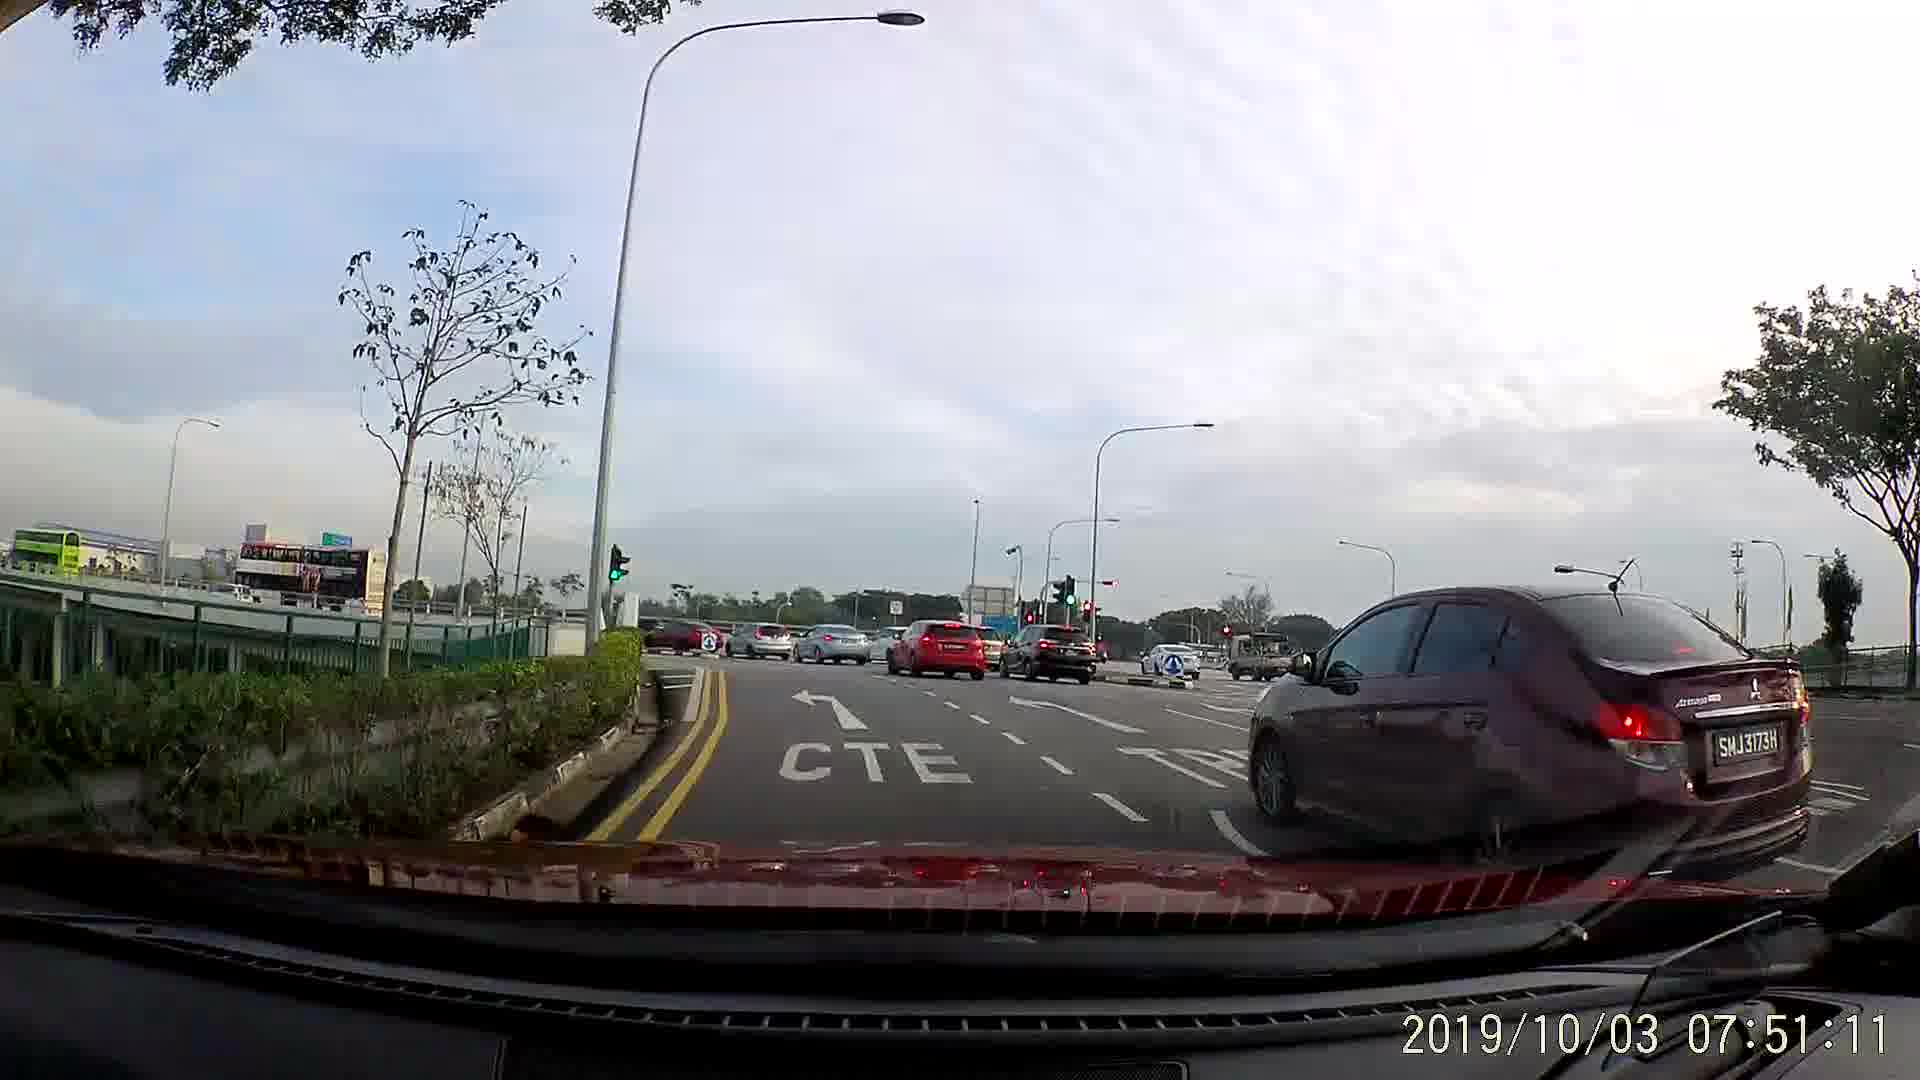bus: (223, 535, 389, 626), (3, 524, 87, 584)
car: (1242, 572, 1817, 869), (1001, 615, 1096, 688), (890, 615, 986, 679), (794, 615, 876, 669), (638, 612, 719, 654), (1141, 641, 1205, 684), (725, 621, 793, 659)
